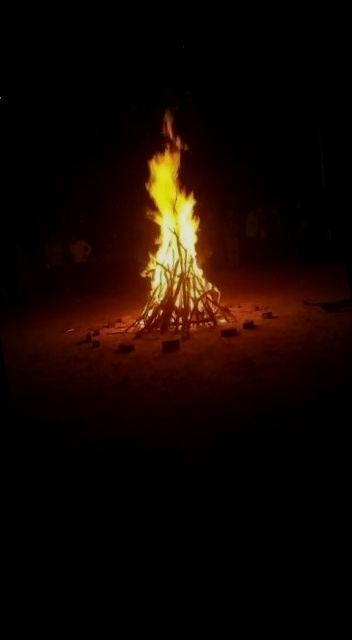fire: (87, 92, 269, 337)
